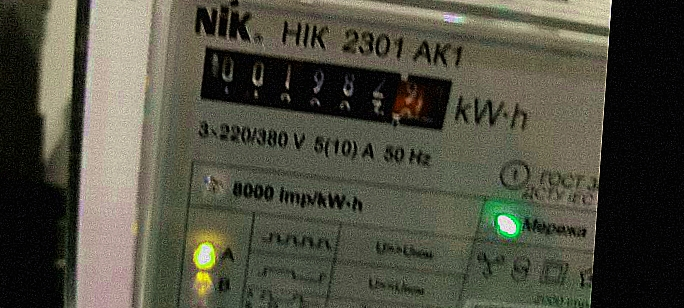0: (248, 57, 267, 87), (218, 52, 236, 82)
1: (280, 59, 294, 89)
2: (369, 69, 389, 99)
8: (339, 68, 357, 97)
9: (400, 77, 422, 106), (309, 64, 326, 94)
screen: (181, 30, 468, 145)
